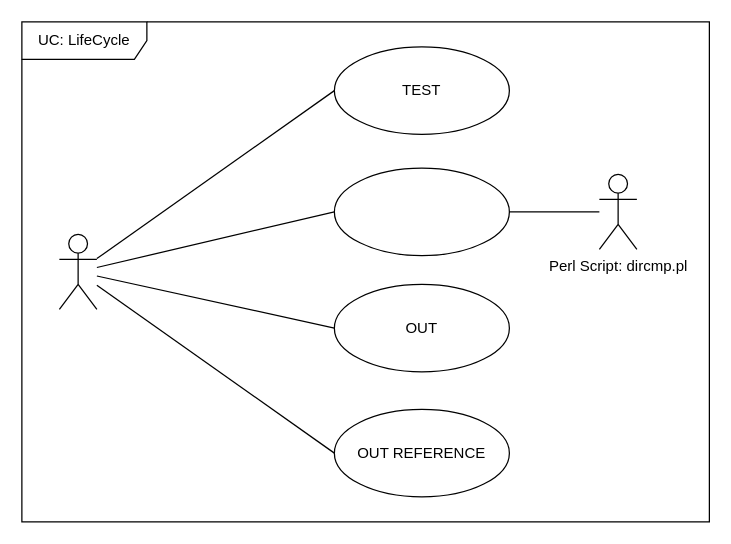
Some shapes in this 731 by 544 pixel diagram are drawn without their labels. The shapes that lost their labels are listed below. From the top down, each one's centre as x and y in pixels, then its label:
At pixel 421 211: "DIFF".
At pixel 77 271: "Developer".
